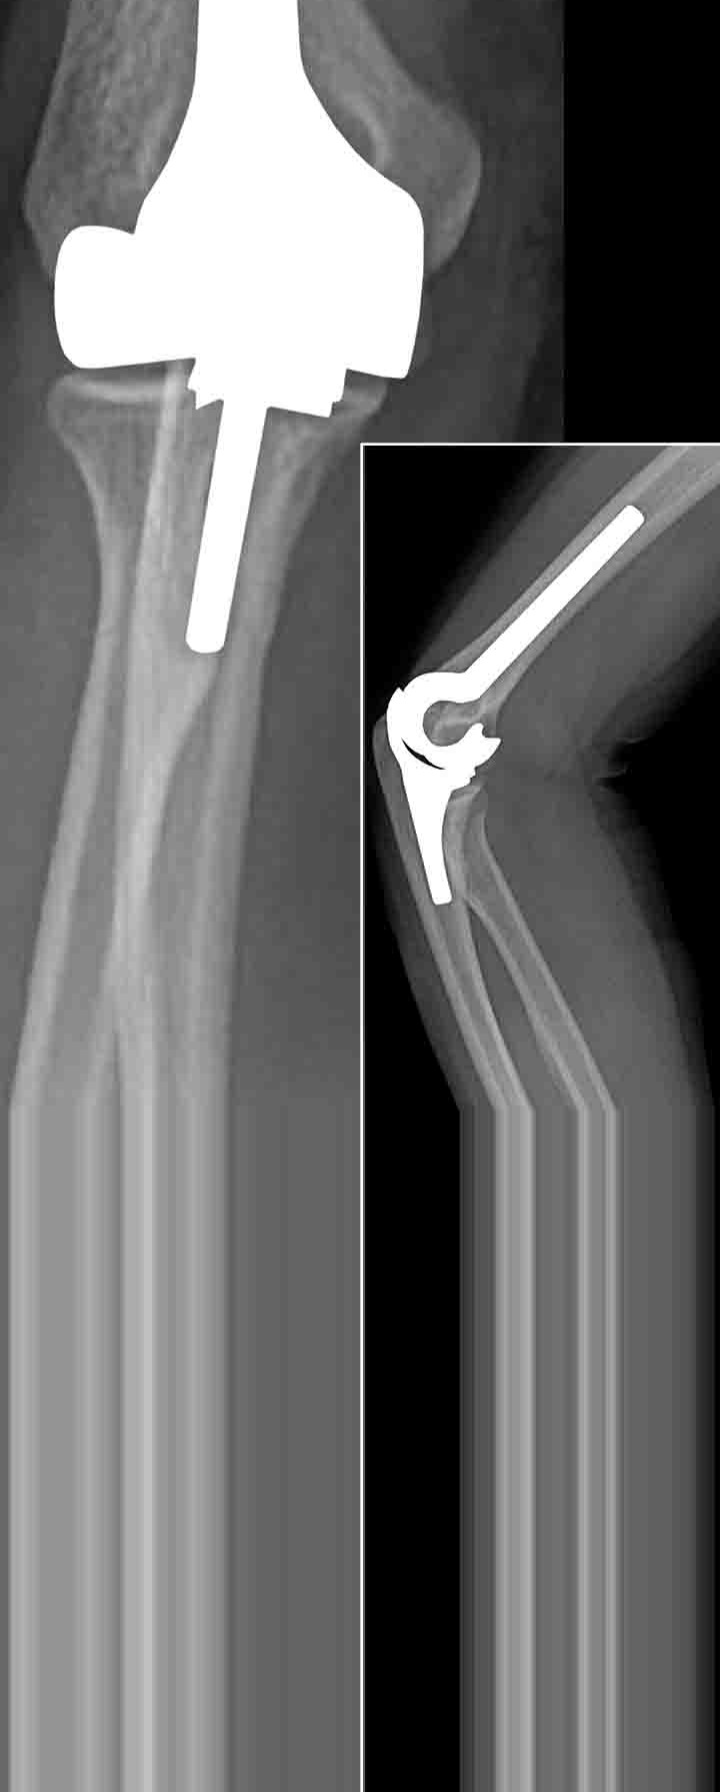Elbow - IBP - Biomet: (33, 1, 433, 663), (377, 482, 658, 925)
